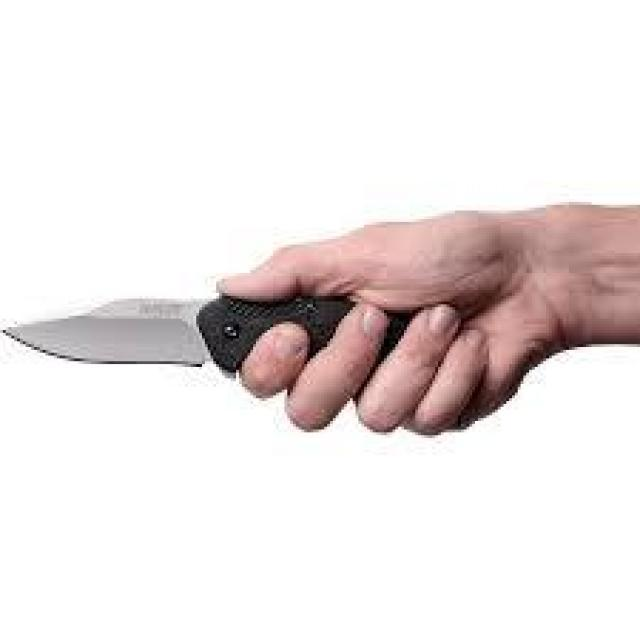faca: (0, 208, 572, 452)
